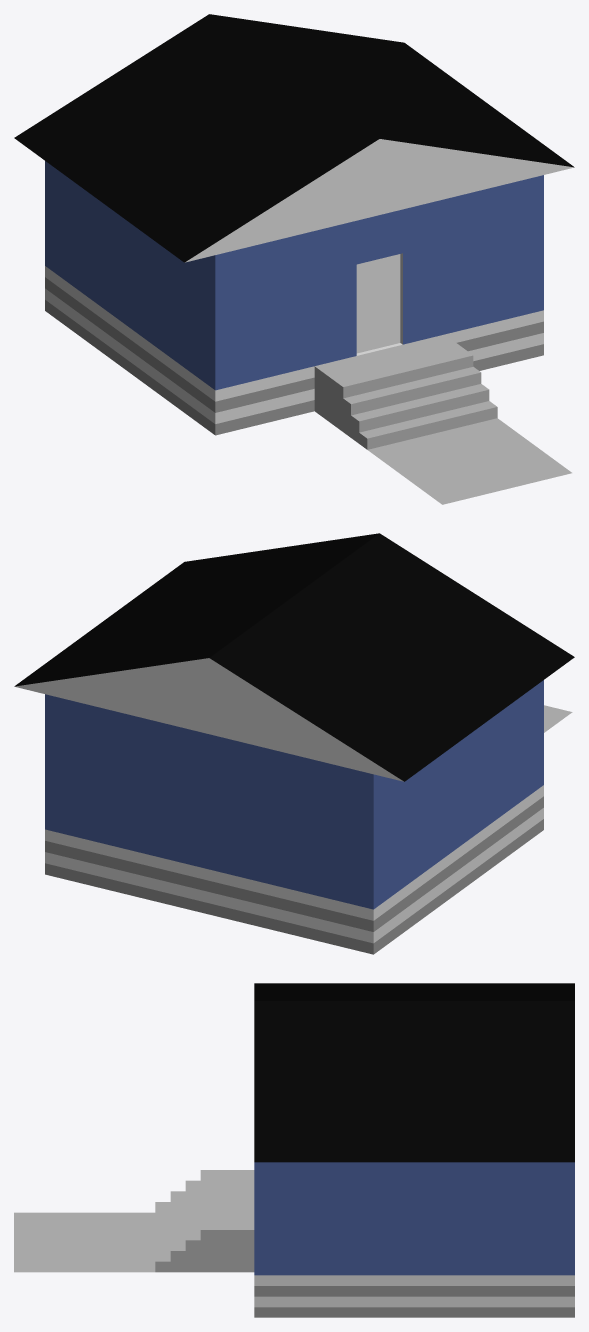
File: house blue.fbx
3 renders of one model, top to bottom at view 1: azimuth 30°, elevation 25°; view 2: azimuth 150°, elevation 25°; view 3: azimuth 270°, elevation 25°, orthographic. The views are drawn at different scales.
Parts seen in each view (by area): view 1: House4; view 2: House4; view 3: House4.
Boxes of the visible parts, x1,y1,x2,y2 form: House4: (14,14,574,504); House4: (14,533,574,954); House4: (14,983,574,1317).
Bounding box in the file's own units: 601 × 377 × 794.
